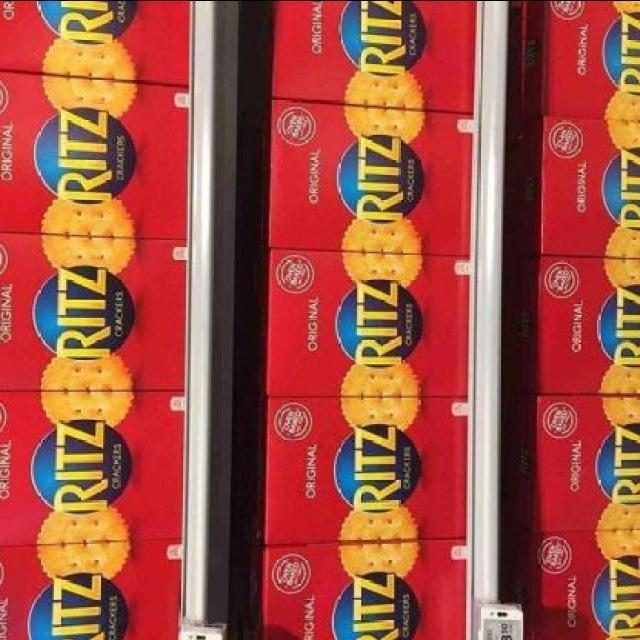Ritz cracker: (4, 16, 624, 633)
